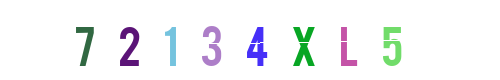1: (163, 0, 243, 80)
2: (89, 0, 169, 80)
3: (210, 0, 290, 80)
4: (217, 0, 297, 80)
5: (332, 0, 412, 80)
7: (46, 0, 126, 80)
L: (263, 0, 343, 80)
X: (224, 0, 304, 80)
